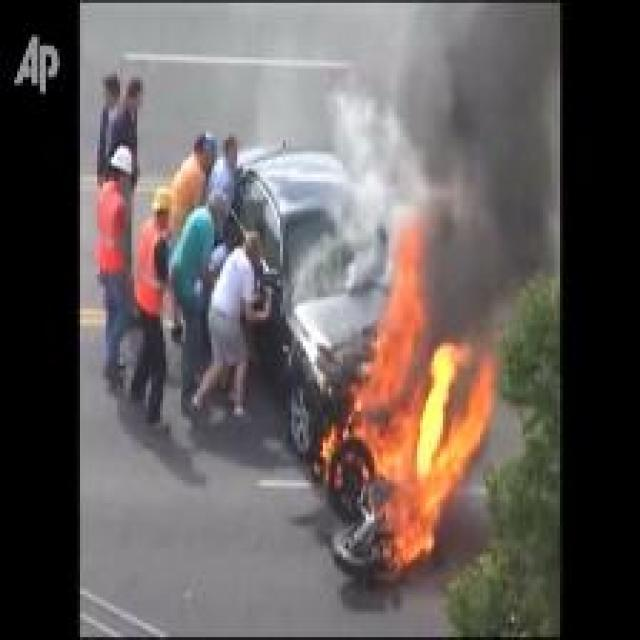Fire: (342, 221, 494, 573)
